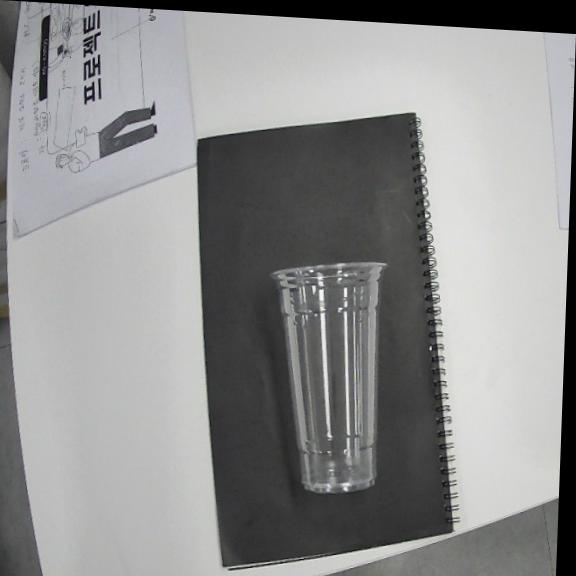Plastik: (272, 263, 384, 493)
